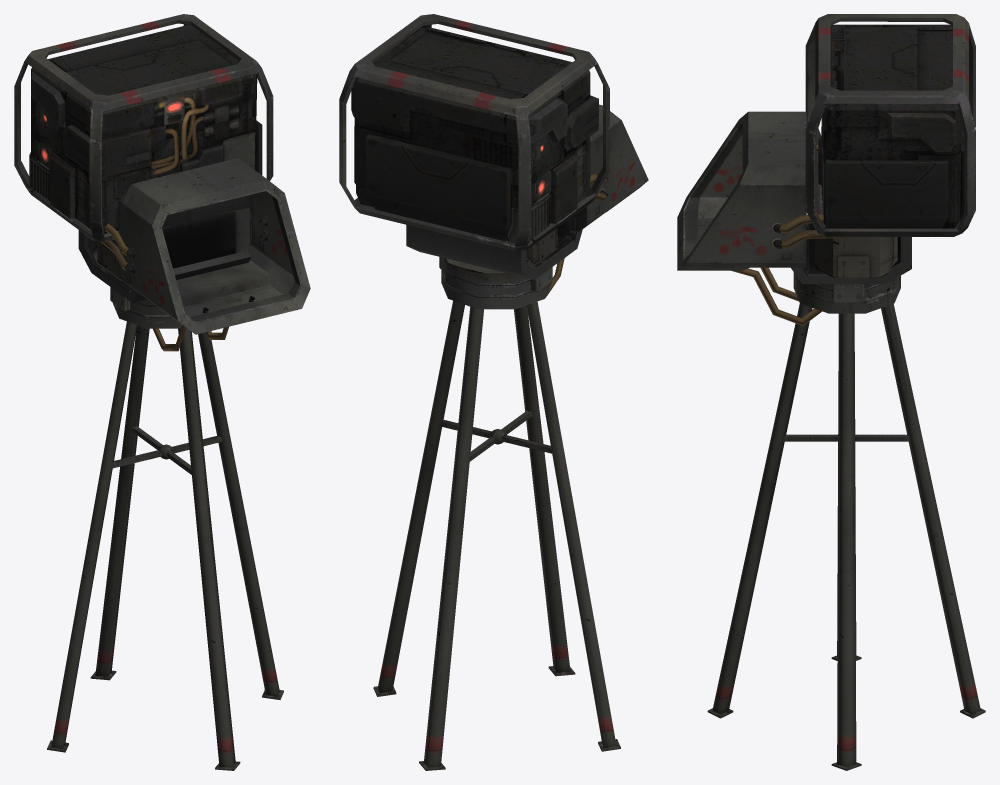
File: computer_flesher_stationary_base.dae
3 views of the same model, side by side, from view 1: azimuth 30°, elevation 25°; view 2: azimuth 150°, elevation 25°; view 3: azimuth 270°, elevation 25° (orthographic). The views are drawn at different scales.
Visible parts, largest first — view 1: computer_flesher_stationary_base; view 2: computer_flesher_stationary_base; view 3: computer_flesher_stationary_base.
Boxes of the visible parts, box(x1,y1,x2,y2) form: computer_flesher_stationary_base: box(14, 14, 310, 770); computer_flesher_stationary_base: box(339, 14, 648, 770); computer_flesher_stationary_base: box(677, 14, 985, 770).
Size of the model in its own units: 32.02 by 83.59 by 35.52.
